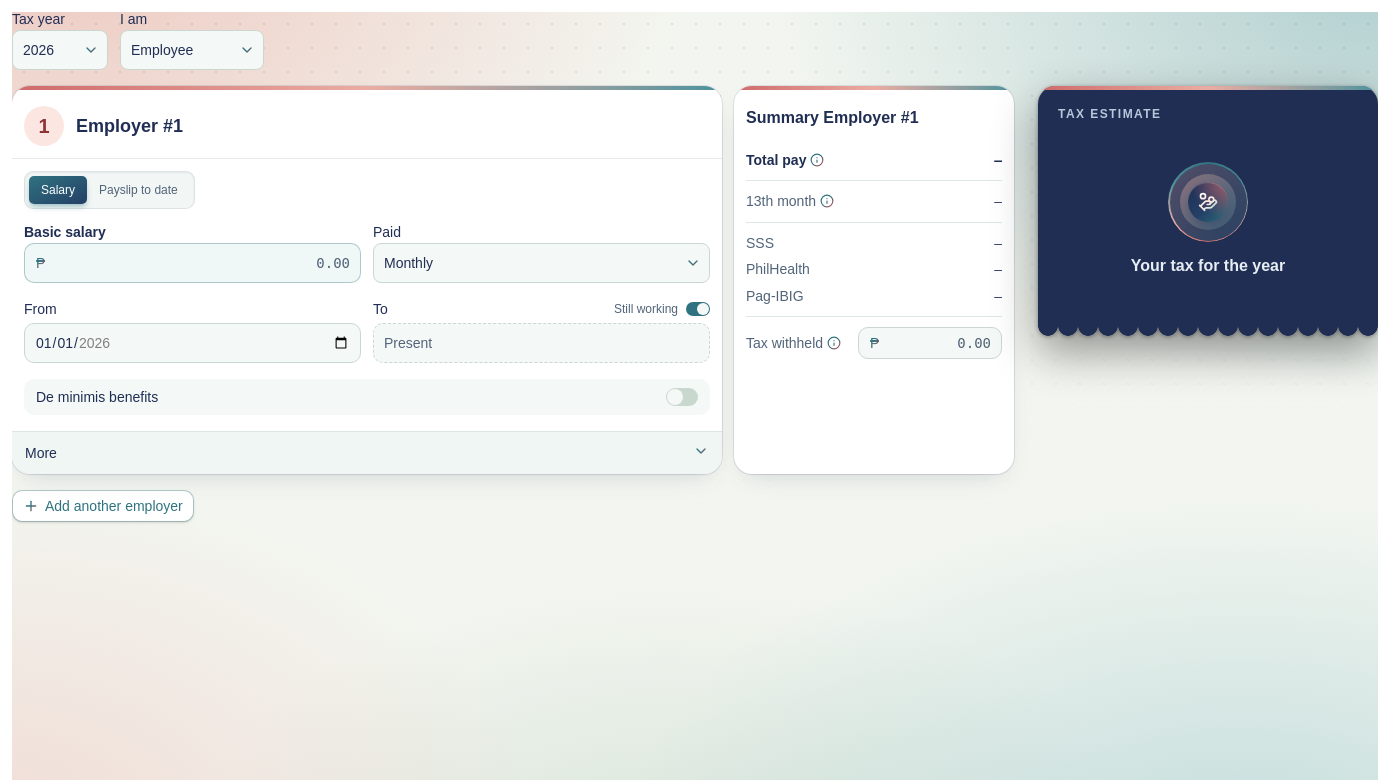
Test: MyYear: who it is for › shows only the business for someone self-employed
Click the dropdown named "I am" at (192, 50), box x1=120 y1=30 x2=264 y2=70
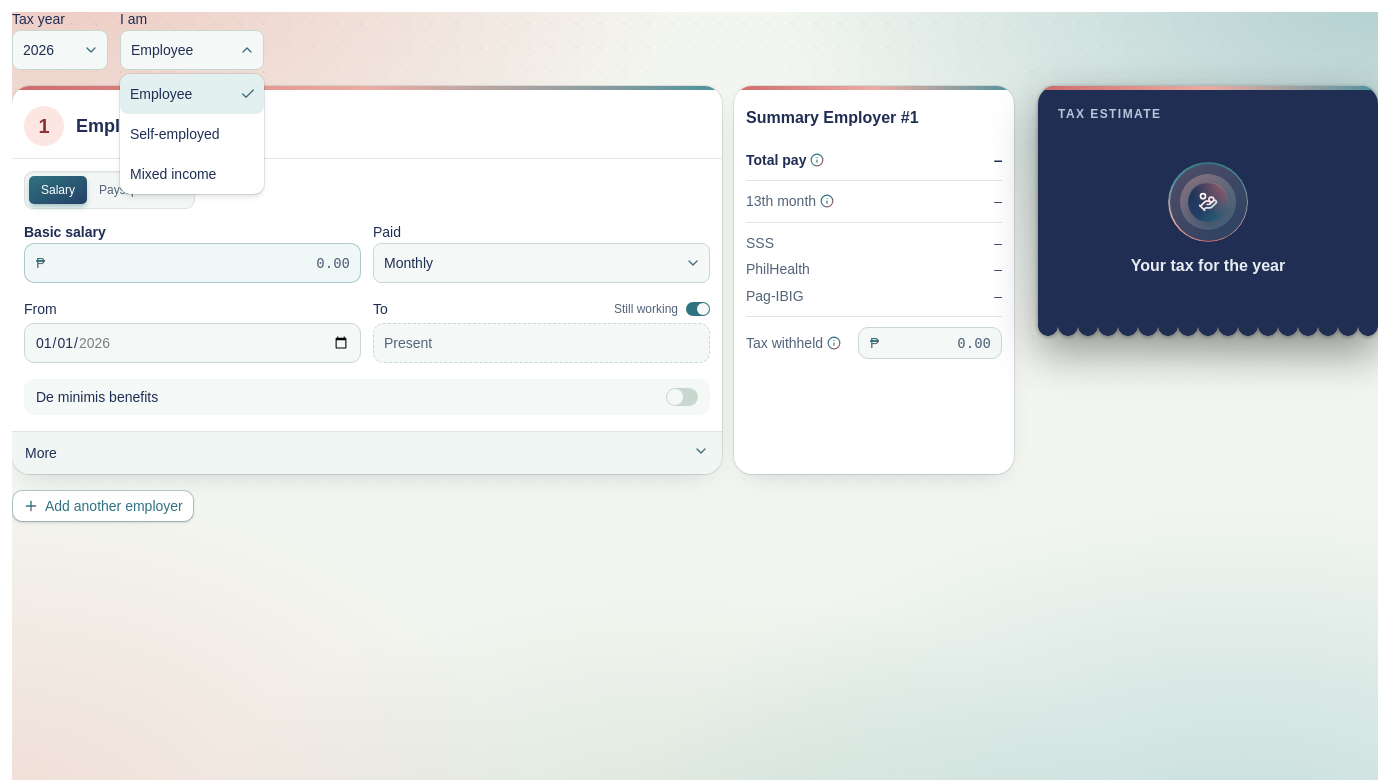
Click the option "Self-employed" at (175, 134), box x1=130 y1=126 x2=220 y2=142
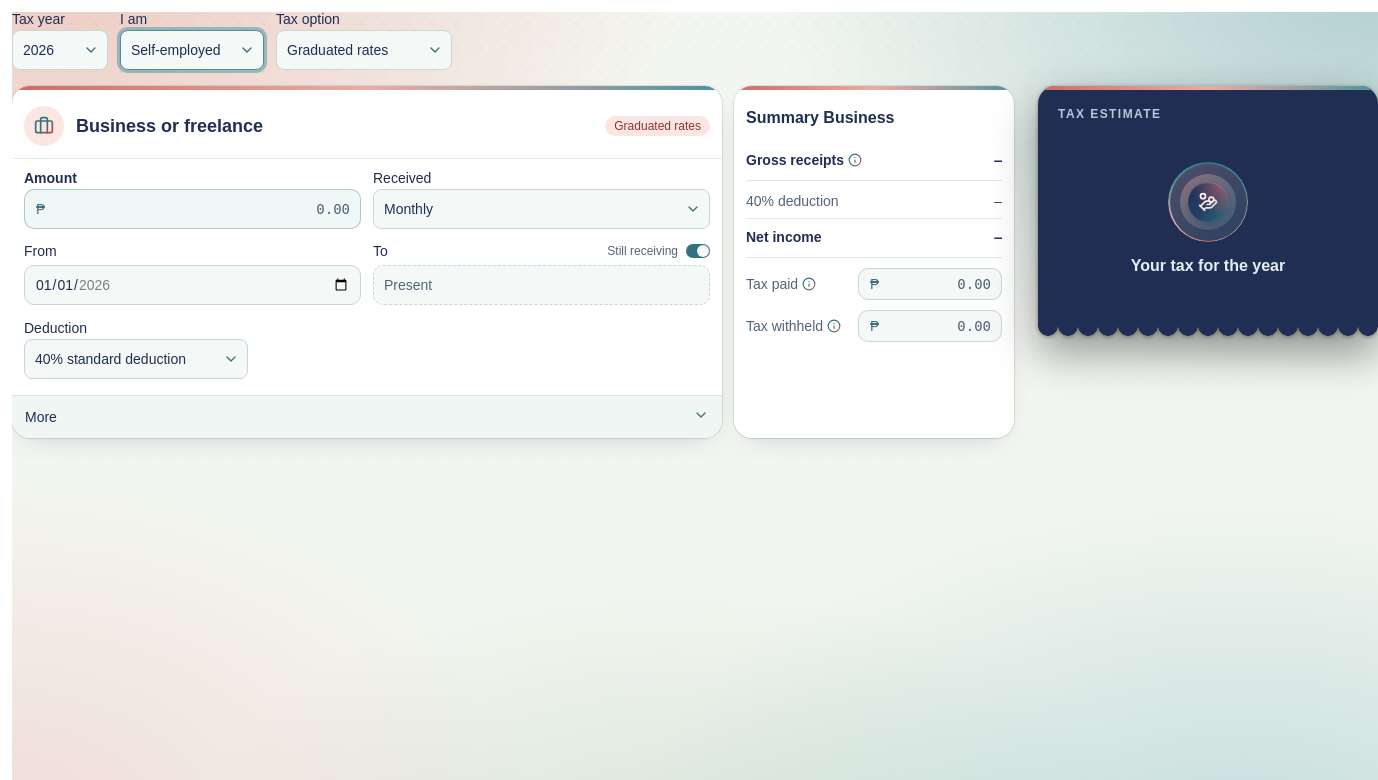
Expected: the text "Business or freelance" is shown, x1=76 y1=115 x2=263 y2=137
Expected: the text "Employer #1" is gone
Expected: the button "Add another employer" is gone
